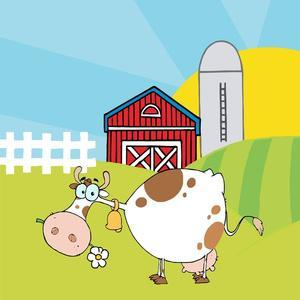cow: (38, 164, 259, 290)
